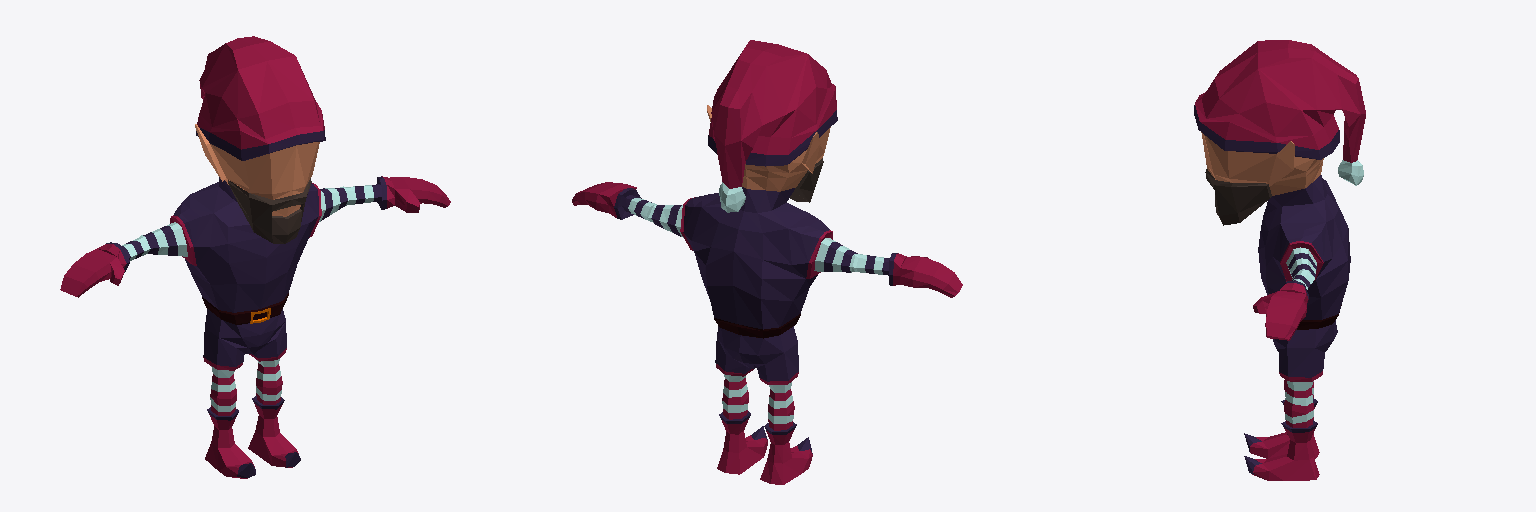
File: char_ELF_10.obj
3 renders of one model, left to right at view 1: azimuth 30°, elevation 25°; view 2: azimuth 150°, elevation 25°; view 3: azimuth 270°, elevation 25°, orthographic.
Visible parts, largest first — view 1: Cube; view 2: Cube; view 3: Cube.
Boxes of the visible parts, box(x1,y1,x2,y2) form: Cube: box(60, 36, 450, 478); Cube: box(572, 40, 962, 484); Cube: box(1194, 40, 1365, 480).
Size of the model in its own units: 2.88 by 2.96 by 1.11.